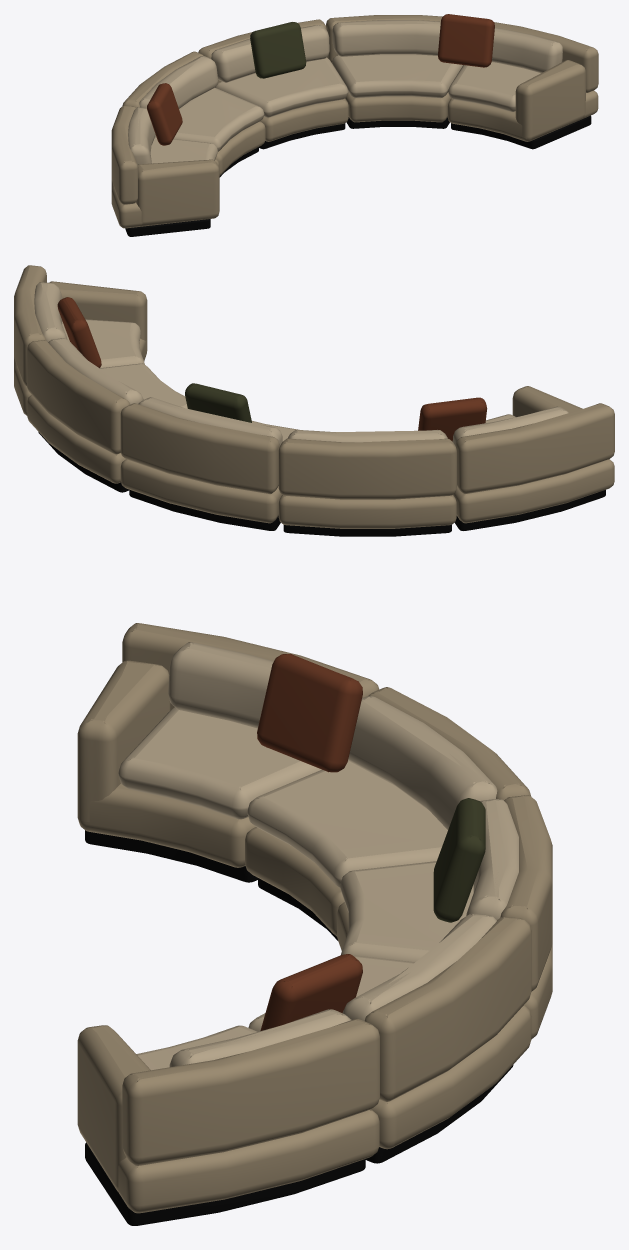
Rendered from curved-sectional-lod1.glb.
The picture shows the model from 3 angles, top to bottom: view 1: azimuth 30°, elevation 25°; view 2: azimuth 150°, elevation 25°; view 3: azimuth 270°, elevation 25°; orthographic projection. The views are drawn at different scales.
Visible parts, largest first — view 1: Oatmeal performance fabric, Oatmeal upholstered base, Terracotta accent pillow, Shadow plinth, Olive accent pillow; view 2: Oatmeal upholstered base, Oatmeal performance fabric, Shadow plinth, Terracotta accent pillow, Olive accent pillow; view 3: Oatmeal upholstered base, Oatmeal performance fabric, Terracotta accent pillow, Shadow plinth, Olive accent pillow.
Part boxes in pixels (x1,y1,x2,y2): Oatmeal performance fabric: (128, 20, 562, 164); Oatmeal upholstered base: (111, 15, 598, 228); Terracotta accent pillow: (147, 14, 494, 145); Shadow plinth: (125, 115, 591, 236); Olive accent pillow: (250, 22, 306, 78); Oatmeal upholstered base: (14, 265, 614, 528); Oatmeal performance fabric: (34, 282, 568, 446); Shadow plinth: (38, 432, 605, 536); Terracotta accent pillow: (57, 297, 487, 441); Olive accent pillow: (185, 383, 251, 422); Oatmeal upholstered base: (77, 623, 552, 1213); Oatmeal performance fabric: (118, 642, 518, 1070); Terracotta accent pillow: (257, 654, 362, 1030); Shadow plinth: (85, 830, 513, 1225); Olive accent pillow: (433, 798, 485, 922).
Bounding box in the file's own units: 4.61 × 0.8431 × 1.99.
